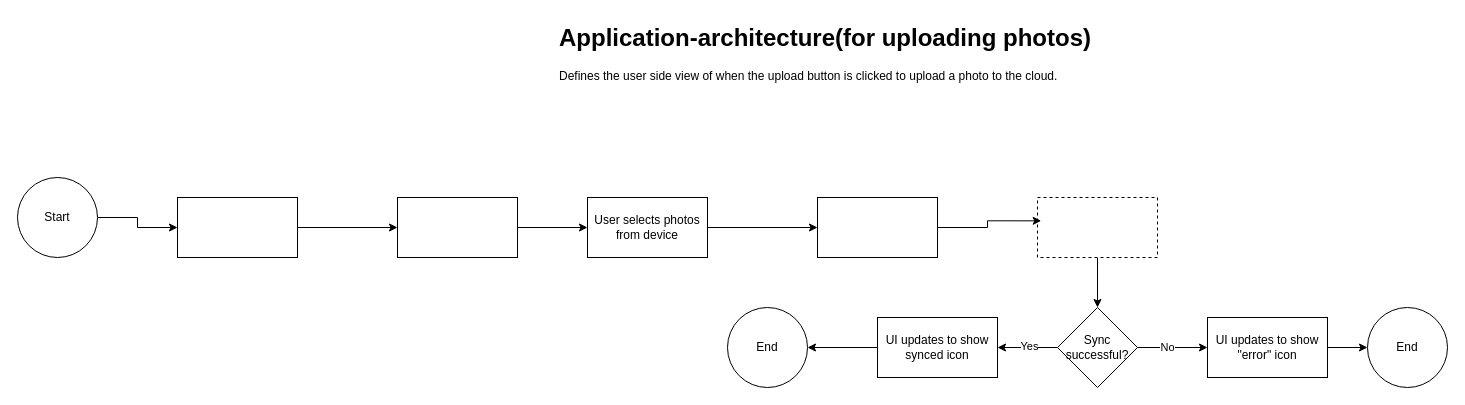
This 1465x405 diagram has some shape labels left out. Here are the shapes that lost their labels. From the top down, the centre of each, then its label:
(x=237, y=227): Main Gallery
(x=457, y=227): User taps 'upload' button
(x=877, y=227): UI updates to show 'pending' icon on device
(x=1097, y=227): "Begin background process sync"
